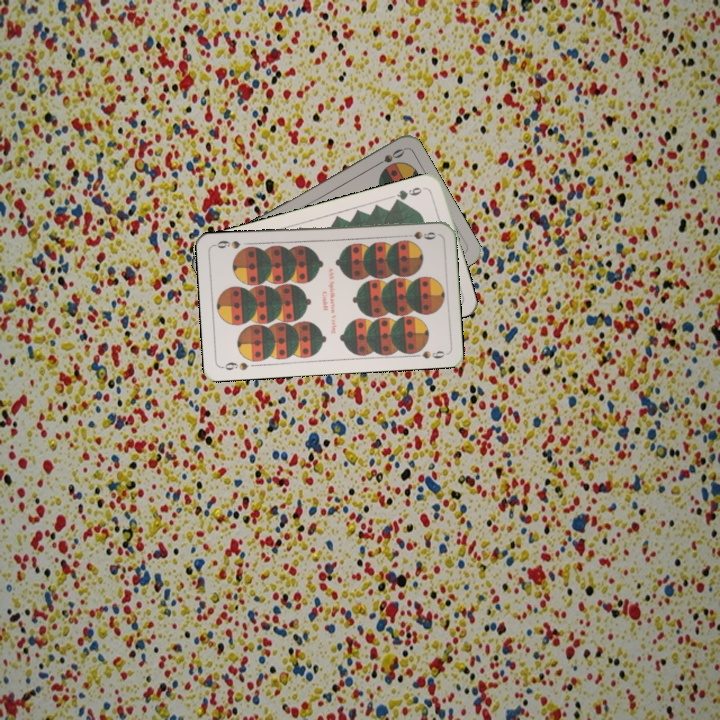G9: (390, 183, 429, 206)
S9: (399, 227, 438, 242), (218, 358, 251, 373)
SO: (369, 144, 407, 170)
